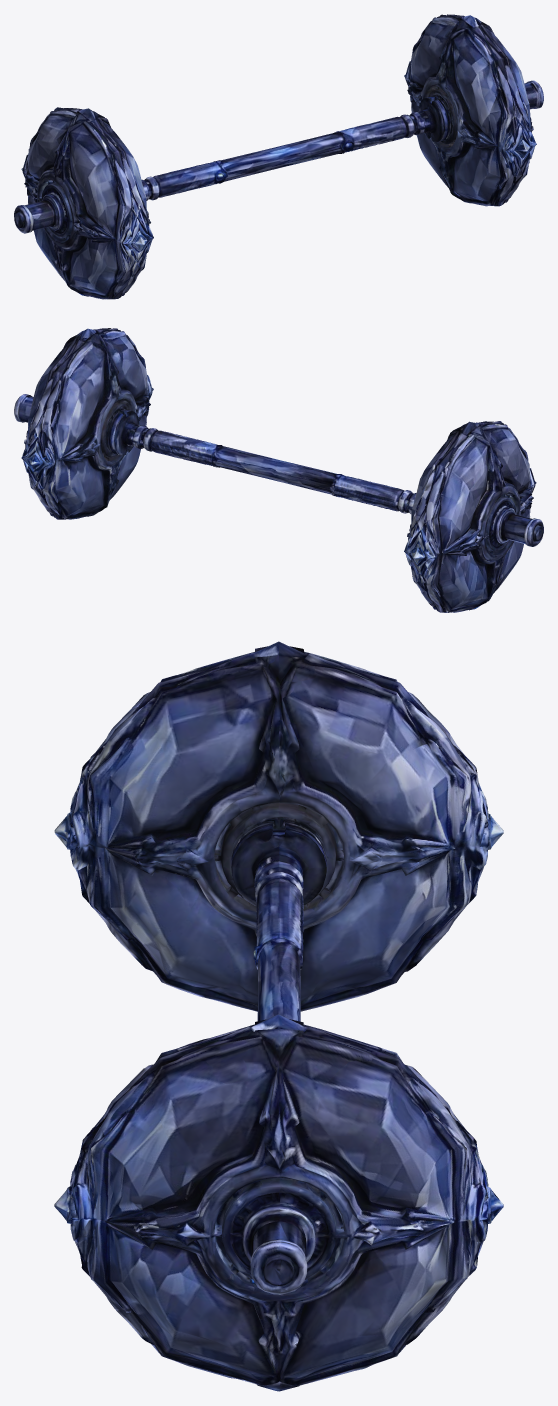
The model's file is MAHWORLD_GYM_BARBELL_L0.glb.
3 renders of one model, top to bottom at view 1: azimuth 30°, elevation 25°; view 2: azimuth 150°, elevation 25°; view 3: azimuth 270°, elevation 25°, orthographic. The views are drawn at different scales.
Parts seen in each view (by area): view 1: tripo_node_f7ad4652-c5a5-44f0-a539-8e10d2461cba; view 2: tripo_node_f7ad4652-c5a5-44f0-a539-8e10d2461cba; view 3: tripo_node_f7ad4652-c5a5-44f0-a539-8e10d2461cba.
Boxes of the visible parts, x1,y1,x2,y2 form: tripo_node_f7ad4652-c5a5-44f0-a539-8e10d2461cba: (14,14,543,299); tripo_node_f7ad4652-c5a5-44f0-a539-8e10d2461cba: (14,328,543,612); tripo_node_f7ad4652-c5a5-44f0-a539-8e10d2461cba: (54,641,503,1391).
Bounding box in the file's own units: 0.9825 × 0.3374 × 0.3666.
Materials: 1 (1 with a texture image).
